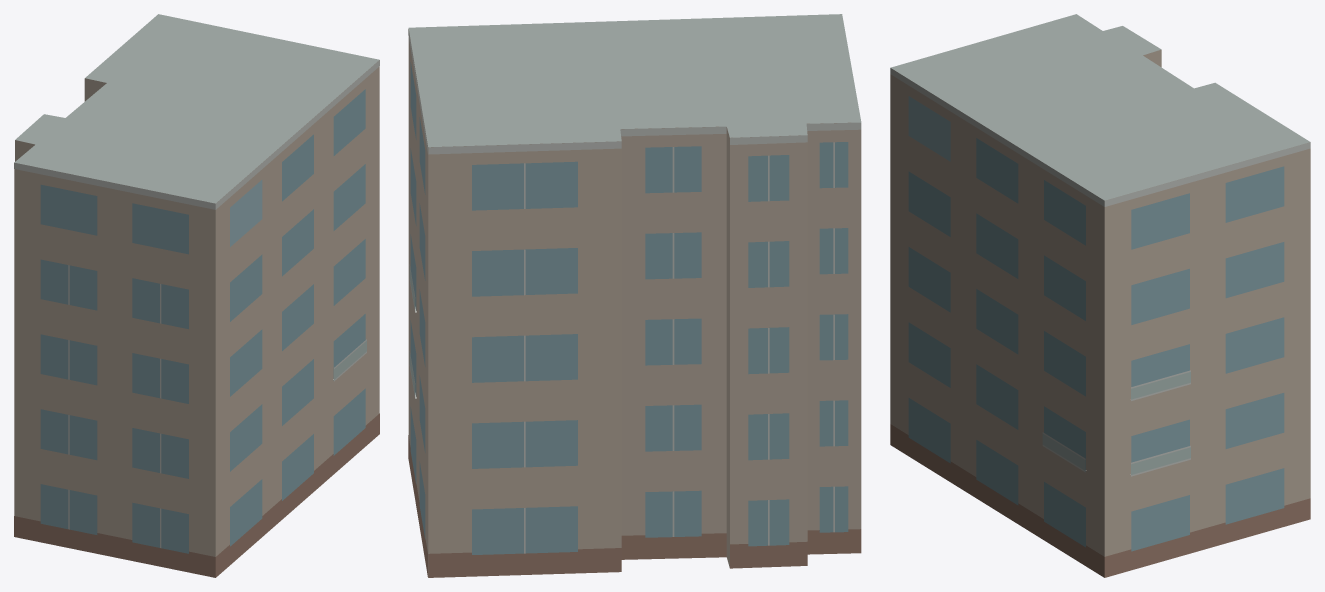
The model's file is survey-upis-33016215.glb.
3 renders of one model, left to right at view 1: azimuth 30°, elevation 25°; view 2: azimuth 150°, elevation 25°; view 3: azimuth 270°, elevation 25°, orthographic. The views are drawn at different scales.
Visible parts, largest first — view 1: survey-upis-33016215.tmp; view 2: survey-upis-33016215.tmp; view 3: survey-upis-33016215.tmp.
Part boxes in pixels (left/top/right/bottom): survey-upis-33016215.tmp: left=14, top=14, right=379, bottom=577; survey-upis-33016215.tmp: left=408, top=14, right=861, bottom=577; survey-upis-33016215.tmp: left=890, top=14, right=1310, bottom=577.
Bounding box in the file's own units: 15.29 × 14.4 × 14.55.
